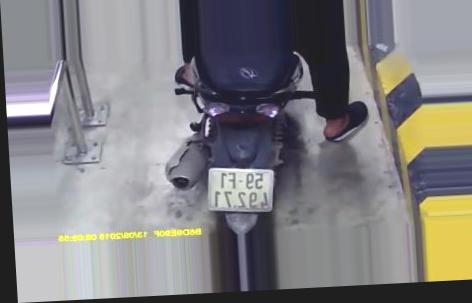License_Plate: (196, 164, 284, 215)
